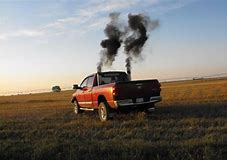smoke: (98, 11, 151, 68)
